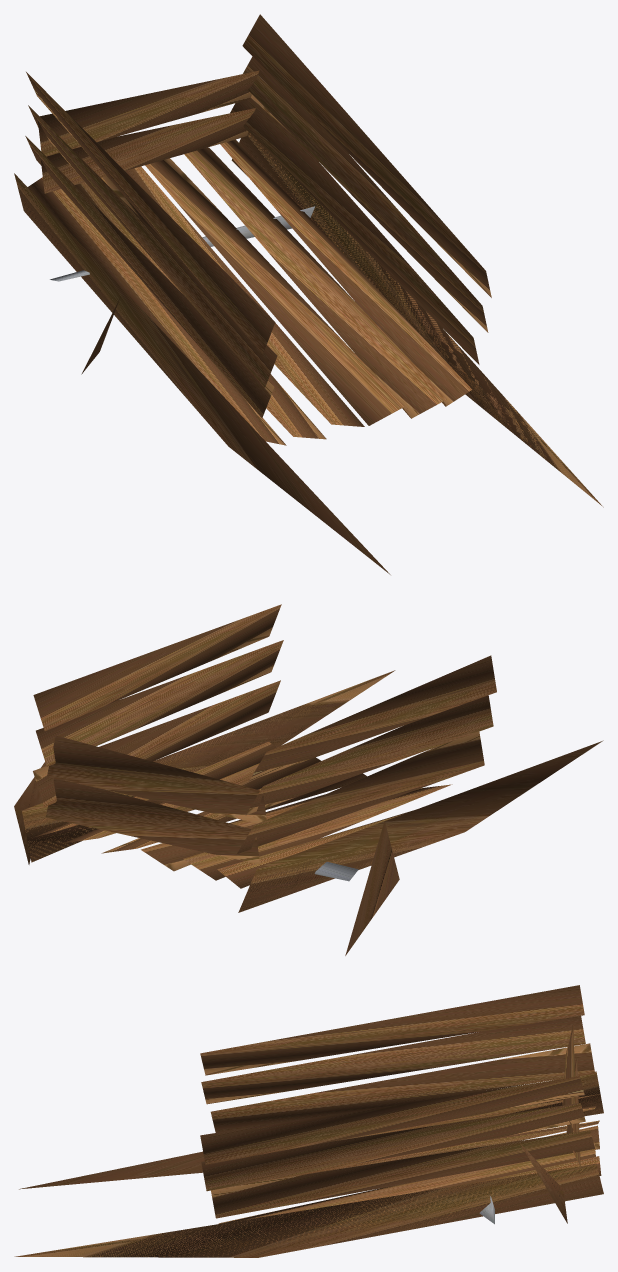
File: Prop_Wagon.low.gltf
The picture shows the model from 3 angles, top to bottom: view 1: azimuth 30°, elevation 25°; view 2: azimuth 150°, elevation 25°; view 3: azimuth 270°, elevation 25°; orthographic projection. The views are drawn at different scales.
Visible parts, largest first — view 1: Prop_Wagon; view 2: Prop_Wagon; view 3: Prop_Wagon.
Boxes of the visible parts, x1=… form: Prop_Wagon: x1=14, y1=14, x2=603, y2=574; Prop_Wagon: x1=14, y1=604, x2=603, y2=955; Prop_Wagon: x1=14, y1=985, x2=603, y2=1257.
Size of the model in its own units: 1.85 by 1.51 by 4.02.
1 material, 1 textured.
